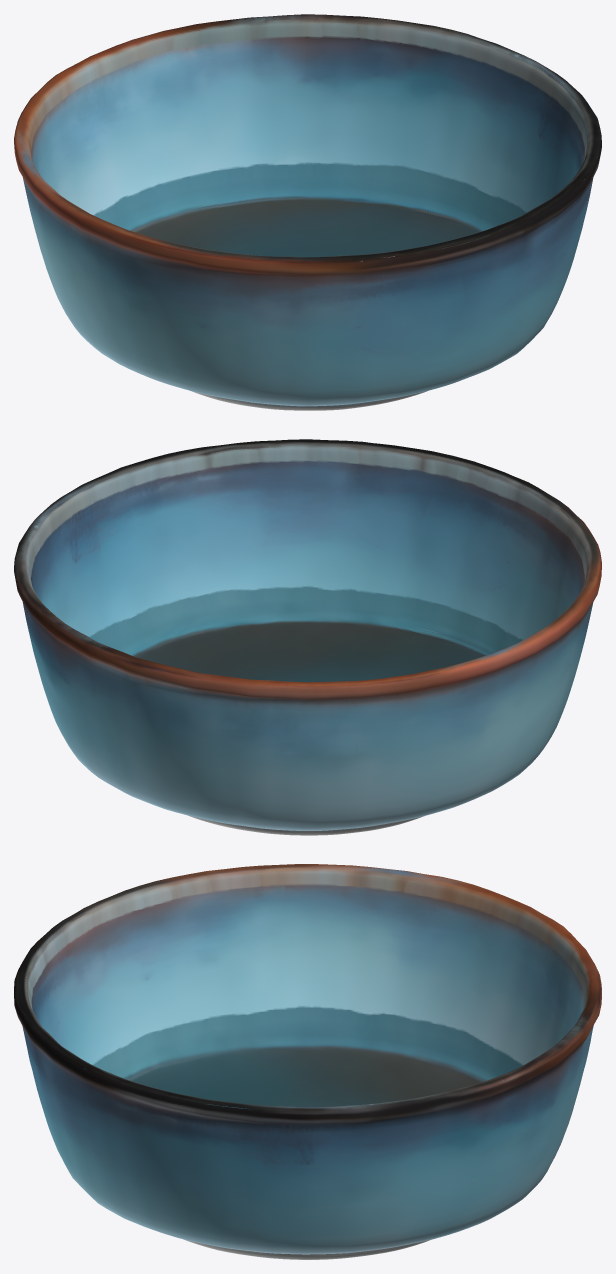
3 views of the same model, one above another, from view 1: azimuth 30°, elevation 25°; view 2: azimuth 150°, elevation 25°; view 3: azimuth 270°, elevation 25° (orthographic).
Parts seen in each view (by area): view 1: model; view 2: model; view 3: model.
Boxes of the visible parts, x1,y1,x2,y2 form: model: [14, 14, 601, 410]; model: [14, 439, 601, 835]; model: [14, 864, 601, 1259].
Bounding box in the file's own units: 2.67 × 1 × 2.66.
1 material, 1 textured.
